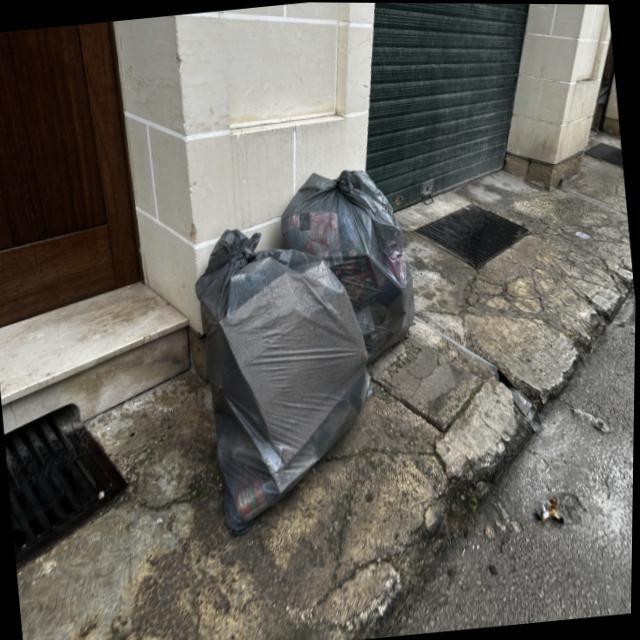Mixed Waste -Black Bags-: (196, 170, 416, 535)
